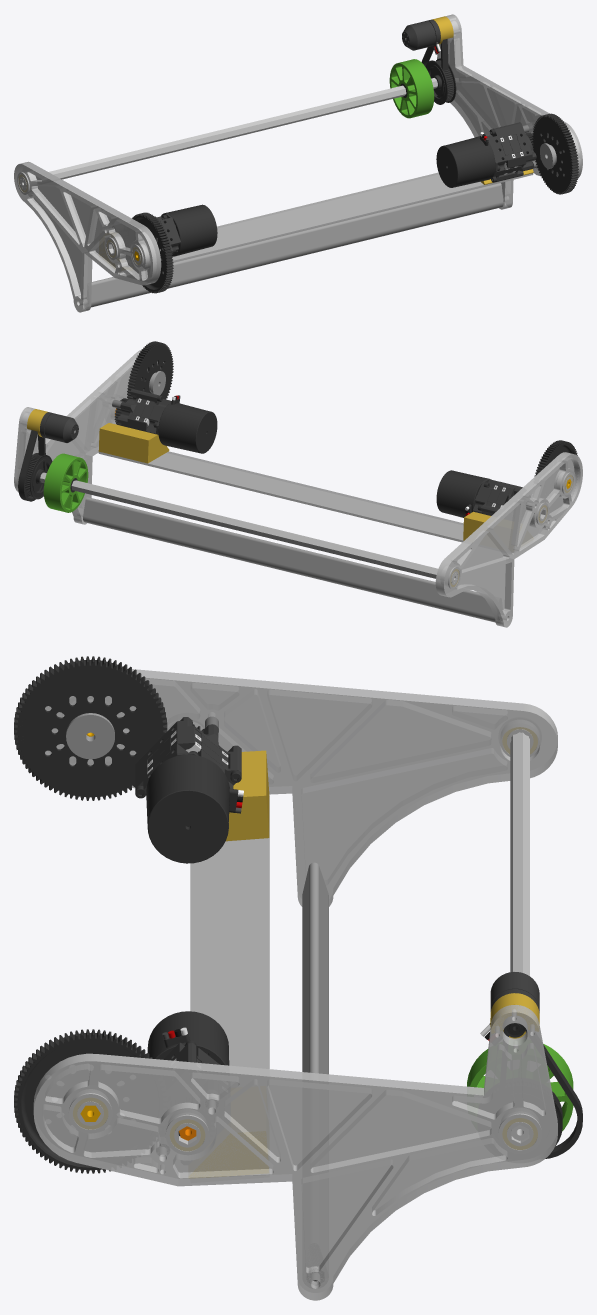
The picture shows the model from 3 angles, top to bottom: view 1: azimuth 30°, elevation 25°; view 2: azimuth 150°, elevation 25°; view 3: azimuth 270°, elevation 25°; orthographic projection. The views are drawn at different scales.
Parts seen in each view (by area): view 1: Part 36 (×5), Intake Plate Left, Intake Bottom Plate, Intake Plate Right, NEO Brushless Motor V1.1 (×2), 1/2" Hex (26.25 in), 84t Pocketed Steel Spur Gear with MotionX (20 DP, 1/2" Hex B (×2), 3" Compliant Wheel (35A, 1" Wide, 1/2" Hex Bore), NEO 550 Brushless Motor, MAXPlanetary 5:1 Slice (×2), MAXPlanetary Input Slice (×2), 60t Aluminum Pulley (GT2 3mm, 9mm Wide, 1/2" Hex Bore) (+2 smaller); view 2: Part 36 (×5), Intake Plate Left, Intake Bottom Plate, Intake Plate Right, 1/2" Hex (26.25 in), NEO Brushless Motor V1.1 (×2), 84t Pocketed Steel Spur Gear with MotionX (20 DP, 1/2" Hex B (×2), 3" Compliant Wheel (35A, 1" Wide, 1/2" Hex Bore), Intake Bracket Right, NEO 550 Brushless Motor, MAXPlanetary Input Slice (×2), 90t 3mm Belt (+4 smaller); view 3: Intake Plate Right, Intake Plate Left, 84t Pocketed Steel Spur Gear with MotionX (20 DP, 1/2" Hex B (×2), Intake Bottom Plate, NEO Brushless Motor V1.1 (×2), Part 36 (×3), 1/2" Hex (26.25 in), 1/2" Hex Bore Bearing (1.125" OD, 0.313" WD, Shielded, Flang (×3), Intake Bracket Left, Intake Bracket Right, MAXPlanetary 5:1 Slice (×2), Deadaxle Cap Left (+5 smaller).
Boxes of the visible parts, bbox=[...] form: Part 36 (×5): bbox=[83, 183, 503, 307]; Intake Plate Left: bbox=[14, 161, 161, 312]; Intake Bottom Plate: bbox=[172, 172, 533, 262]; Intake Plate Right: bbox=[437, 14, 582, 209]; NEO Brushless Motor V1.1 (×2): bbox=[161, 132, 495, 256]; 1/2" Hex (26.25 in): bbox=[20, 78, 437, 188]; 84t Pocketed Steel Spur Gear with MotionX (20 DP, 1/2" Hex B (×2): bbox=[132, 113, 578, 293]; 3" Compliant Wheel (35A, 1" Wide, 1/2" Hex Bore): bbox=[389, 59, 434, 118]; NEO 550 Brushless Motor: bbox=[402, 19, 440, 54]; MAXPlanetary 5:1 Slice (×2): bbox=[496, 124, 524, 181]; MAXPlanetary Input Slice (×2): bbox=[157, 128, 507, 255]; 60t Aluminum Pulley (GT2 3mm, 9mm Wide, 1/2" Hex Bore): bbox=[425, 58, 456, 104]; Part 36 (×5): bbox=[83, 497, 502, 622]; Intake Plate Left: bbox=[435, 452, 582, 627]; Intake Bottom Plate: bbox=[98, 451, 463, 542]; Intake Plate Right: bbox=[14, 349, 160, 524]; 1/2" Hex (26.25 in): bbox=[40, 472, 457, 582]; NEO Brushless Motor V1.1 (×2): bbox=[158, 395, 490, 517]; 84t Pocketed Steel Spur Gear with MotionX (20 DP, 1/2" Hex B (×2): bbox=[127, 341, 577, 476]; 3" Compliant Wheel (35A, 1" Wide, 1/2" Hex Bore): bbox=[43, 453, 88, 512]; Intake Bracket Right: bbox=[98, 423, 169, 463]; NEO 550 Brushless Motor: bbox=[40, 412, 78, 442]; MAXPlanetary Input Slice (×2): bbox=[146, 395, 499, 514]; 90t 3mm Belt: bbox=[18, 430, 46, 501]; Intake Plate Right: bbox=[33, 1005, 557, 1300]; Intake Plate Left: bbox=[45, 668, 557, 906]; 84t Pocketed Steel Spur Gear with MotionX (20 DP, 1/2" Hex B (×2): bbox=[14, 656, 167, 1173]; Intake Bottom Plate: bbox=[190, 795, 269, 1175]; NEO Brushless Motor V1.1 (×2): bbox=[146, 754, 243, 1065]; Part 36 (×3): bbox=[302, 862, 328, 1074]; 1/2" Hex (26.25 in): bbox=[510, 732, 529, 1140]; 1/2" Hex Bore Bearing (1.125" OD, 0.313" WD, Shielded, Flang (×3): bbox=[68, 1091, 541, 1155]; Intake Bracket Left: bbox=[226, 750, 269, 841]; Intake Bracket Right: bbox=[189, 1131, 268, 1177]; MAXPlanetary 5:1 Slice (×2): bbox=[135, 727, 241, 786]; Deadaxle Cap Left: bbox=[66, 713, 114, 759].
Bounding box in the file's own units: 0.6699 × 0.2266 × 0.4054.
